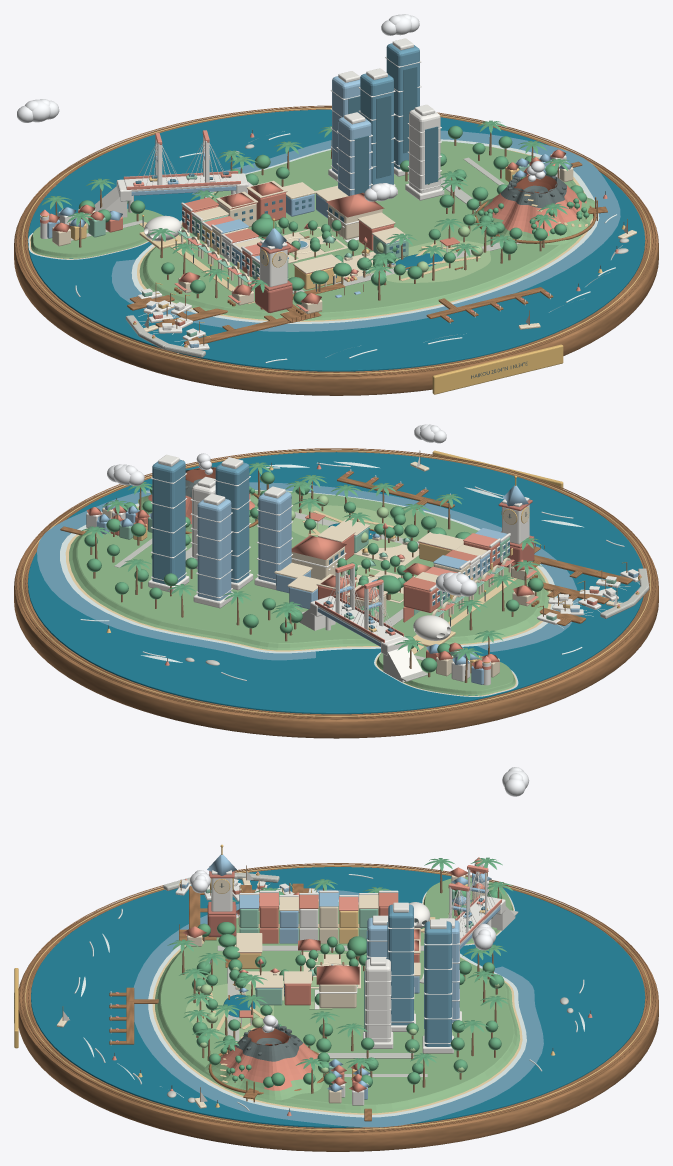
File: haikou_v1.glb
3 renders of one model, top to bottom at view 1: azimuth 30°, elevation 25°; view 2: azimuth 150°, elevation 25°; view 3: azimuth 270°, elevation 25°, orthographic.
Parts seen in each view (by area): view 1: Sea, MainIsland, Plinth_Base, Coastal_Shallow, Wood_Tray, Volcano, Copper_Plaque, Haidian, ClockTower, Foam, Tray_Grain_04, Tray_Grain_03 (+29 smaller); view 2: Sea, MainIsland, Plinth_Base, Coastal_Shallow, Wood_Tray, CBD_Tower_05, CBD_Tower_04, CBD_Tower_01, CBD_Tower_02, Foam, Tray_Grain_04, Tray_Grain_03 (+30 smaller); view 3: Sea, MainIsland, Plinth_Base, Coastal_Shallow, Wood_Tray, Volcano, CBD_Tower_05, CBD_Tower_02, Foam, Tray_Grain_04, Tray_Grain_03, CBD_Tower_03 (+22 smaller).
Boxes of the visible parts, bbox=[...] form: Sea: bbox=[27, 109, 645, 371]; MainIsland: bbox=[139, 141, 582, 320]; Plinth_Base: bbox=[14, 107, 658, 395]; Coastal_Shallow: bbox=[111, 130, 620, 331]; Wood_Tray: bbox=[20, 108, 652, 375]; Volcano: bbox=[471, 174, 594, 244]; Copper_Plaque: bbox=[432, 344, 563, 394]; Haidian: bbox=[30, 209, 163, 258]; ClockTower: bbox=[255, 218, 292, 312]; Foam: bbox=[28, 139, 599, 323]; Tray_Grain_04: bbox=[16, 105, 656, 376]; Tray_Grain_03: bbox=[19, 106, 653, 375]; Sea: bbox=[27, 452, 643, 714]; MainIsland: bbox=[69, 490, 548, 650]; Plinth_Base: bbox=[14, 450, 658, 738]; Coastal_Shallow: bbox=[37, 482, 578, 660]; Wood_Tray: bbox=[20, 451, 652, 718]; CBD_Tower_05: bbox=[152, 459, 185, 584]; CBD_Tower_04: bbox=[197, 499, 231, 600]; CBD_Tower_01: bbox=[258, 491, 291, 583]; CBD_Tower_02: bbox=[215, 462, 249, 582]; Foam: bbox=[60, 490, 557, 696]; Tray_Grain_04: bbox=[16, 448, 656, 719]; Tray_Grain_03: bbox=[19, 449, 653, 717]; Sea: bbox=[31, 867, 645, 1127]; MainIsland: bbox=[155, 901, 520, 1113]; Plinth_Base: bbox=[18, 865, 658, 1151]; Coastal_Shallow: bbox=[134, 889, 543, 1127]; Wood_Tray: bbox=[23, 866, 652, 1131]; Volcano: bbox=[205, 1027, 331, 1100]; CBD_Tower_05: bbox=[424, 921, 451, 1046]; CBD_Tower_02: bbox=[388, 904, 413, 1025]; Foam: bbox=[148, 892, 526, 1117]; Tray_Grain_04: bbox=[19, 863, 656, 1132]; Tray_Grain_03: bbox=[22, 864, 653, 1131]; CBD_Tower_03: bbox=[365, 959, 390, 1042].
Size of the model in its own units: 224 by 60.67 by 225.
24 materials, 2 textured.
